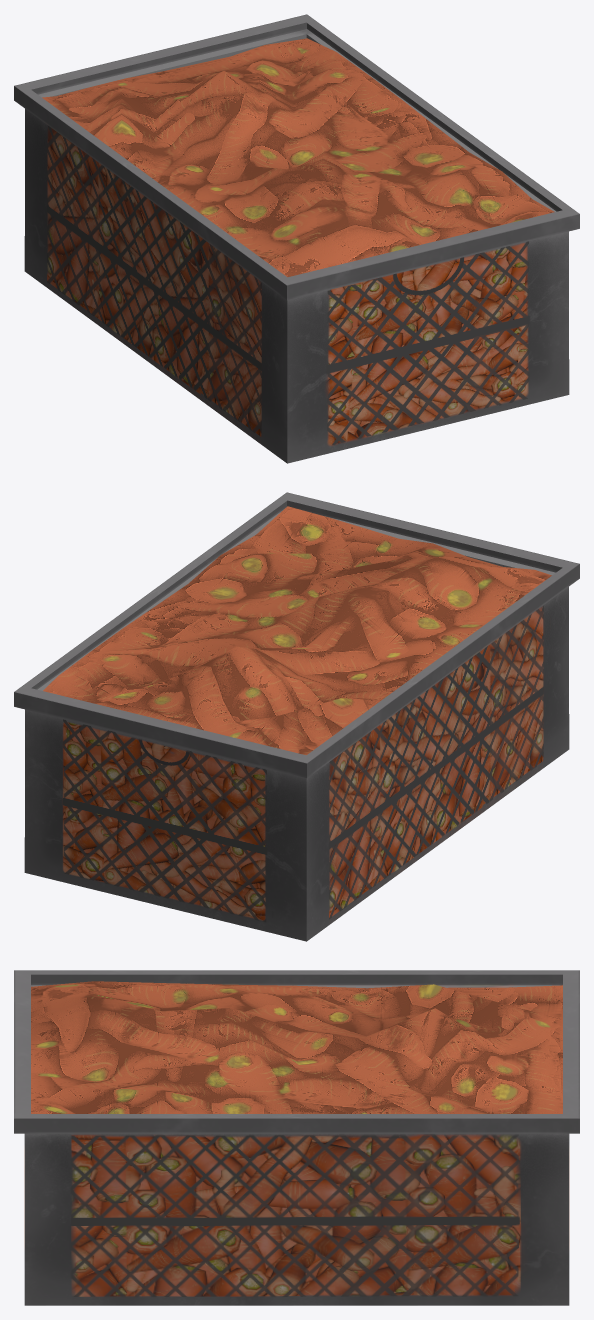
The model's file is caja de zanahorias.fbx.
The picture shows the model from 3 angles, top to bottom: view 1: azimuth 30°, elevation 25°; view 2: azimuth 150°, elevation 25°; view 3: azimuth 270°, elevation 25°; orthographic projection. The views are drawn at different scales.
Parts seen in each view (by area): view 1: caja de zanahorias, plano zanahorias; view 2: caja de zanahorias, plano zanahorias; view 3: caja de zanahorias, plano zanahorias.
Boxes of the visible parts, x1=… form: caja de zanahorias: x1=14, y1=14, x2=579, y2=463; plano zanahorias: x1=42, y1=38, x2=554, y2=277; caja de zanahorias: x1=14, y1=492, x2=579, y2=941; plano zanahorias: x1=43, y1=506, x2=551, y2=755; caja de zanahorias: x1=14, y1=970, x2=579, y2=1305; plano zanahorias: x1=31, y1=981, x2=562, y2=1113.
Bounding box in the file's own units: 46.89 × 32.89 × 75.63.
